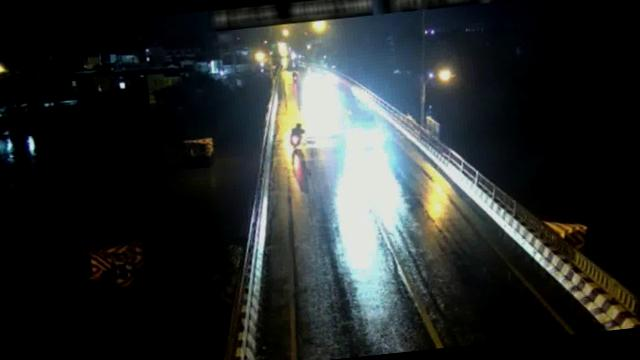Bike: (282, 120, 308, 150)
